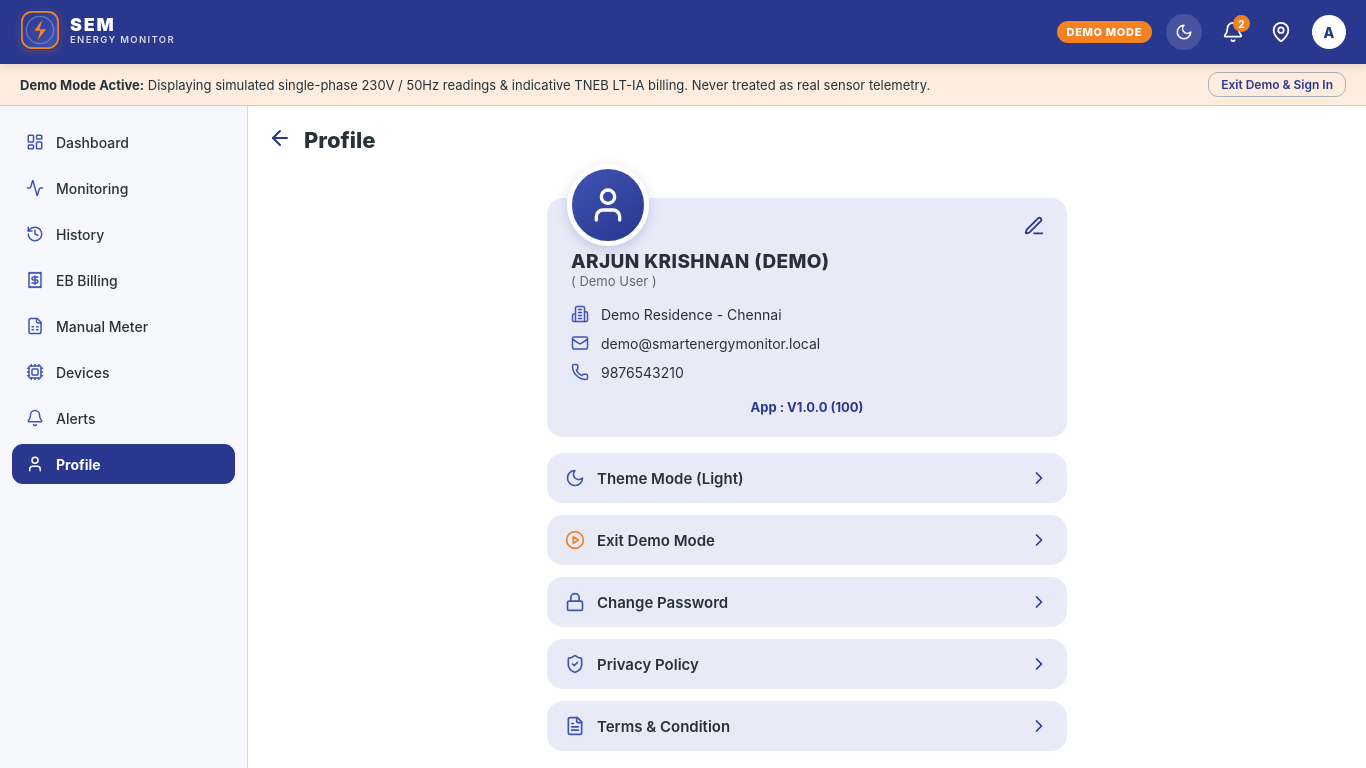
Test case: Phase 8 Alerts, Theme Switching & Profile › toggles Light/Dark theme and opens Privacy Policy on Profile page
Expected: the text "App : V1.0.0 (100)" is shown, [750, 399, 864, 415]
Click the button "Theme Mode (Light)" at point(649, 478), box [547, 453, 1067, 503]
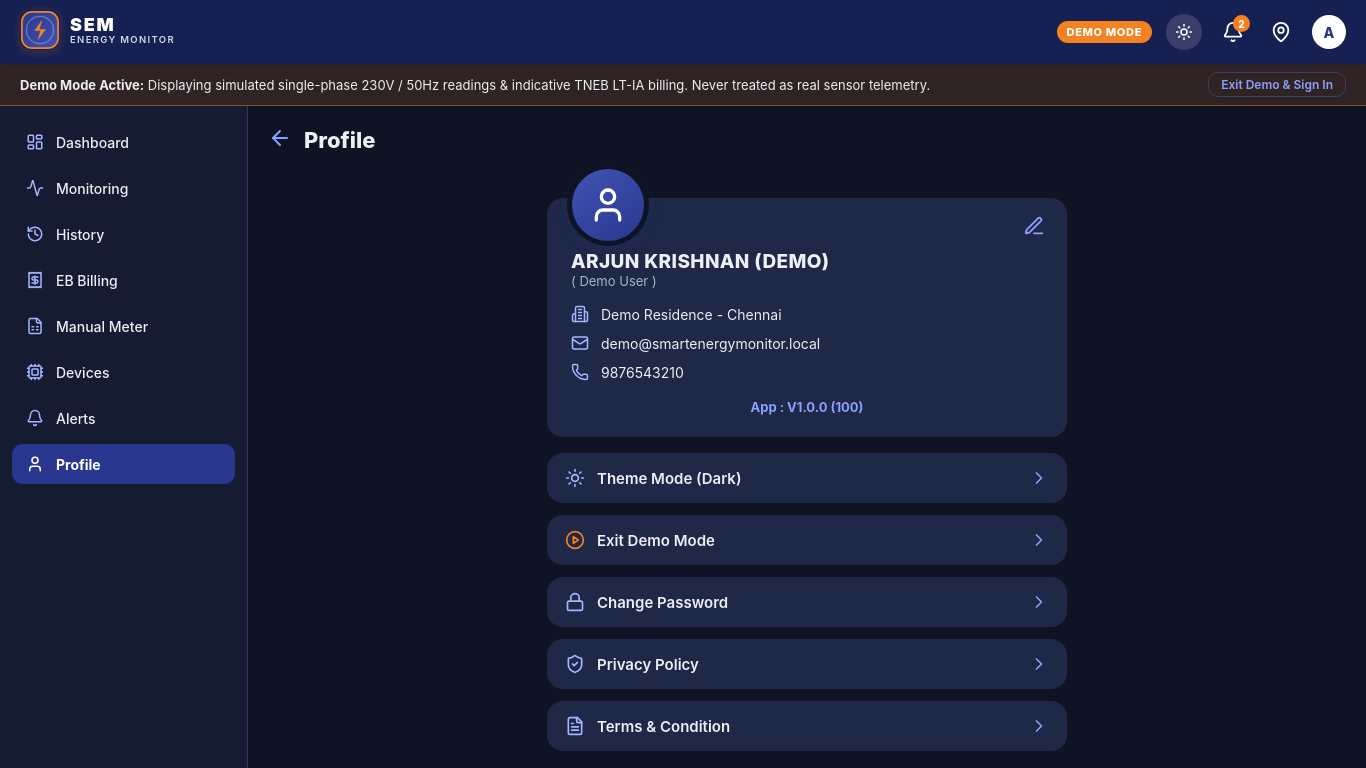
Click the button "Privacy Policy" at point(648, 664), box [547, 639, 1067, 689]
(page scrolled)
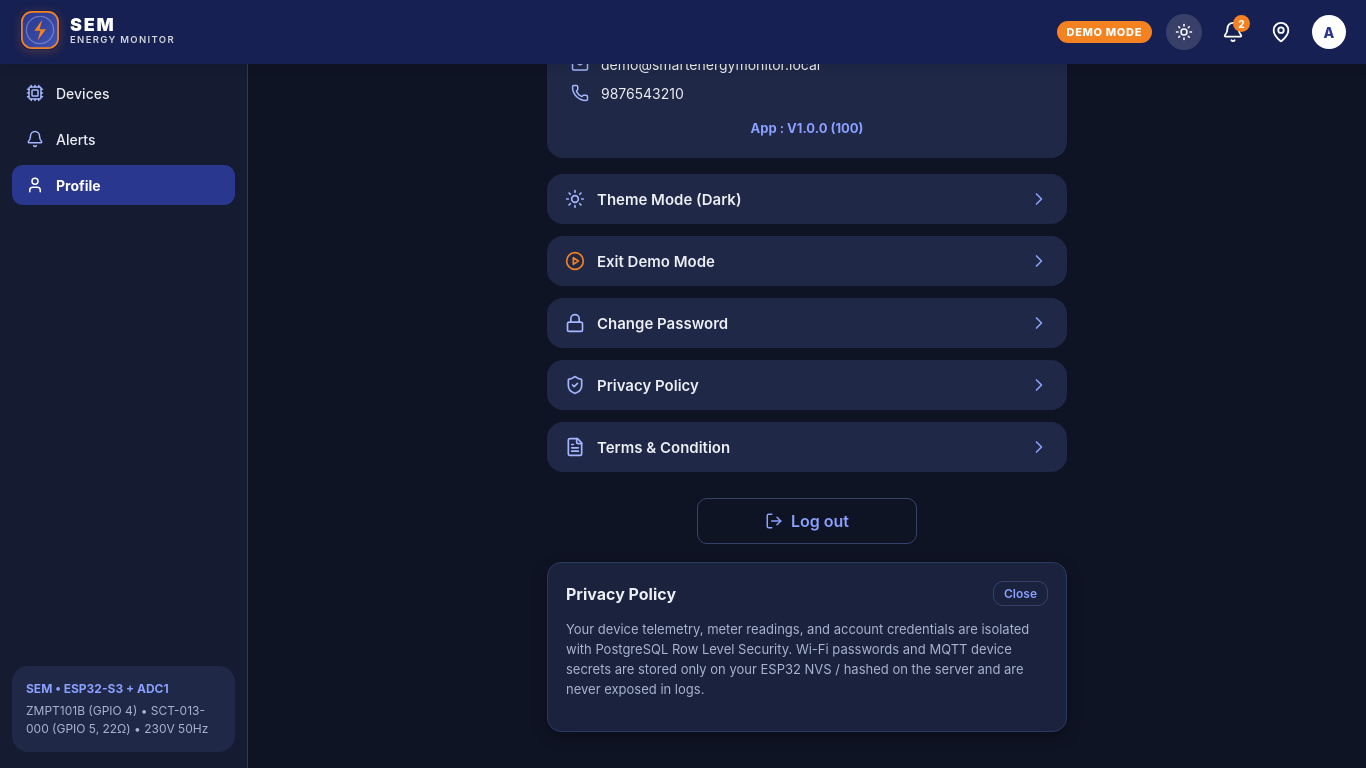
Now the text "Row Level Security" is shown, box [566, 621, 1029, 697]
